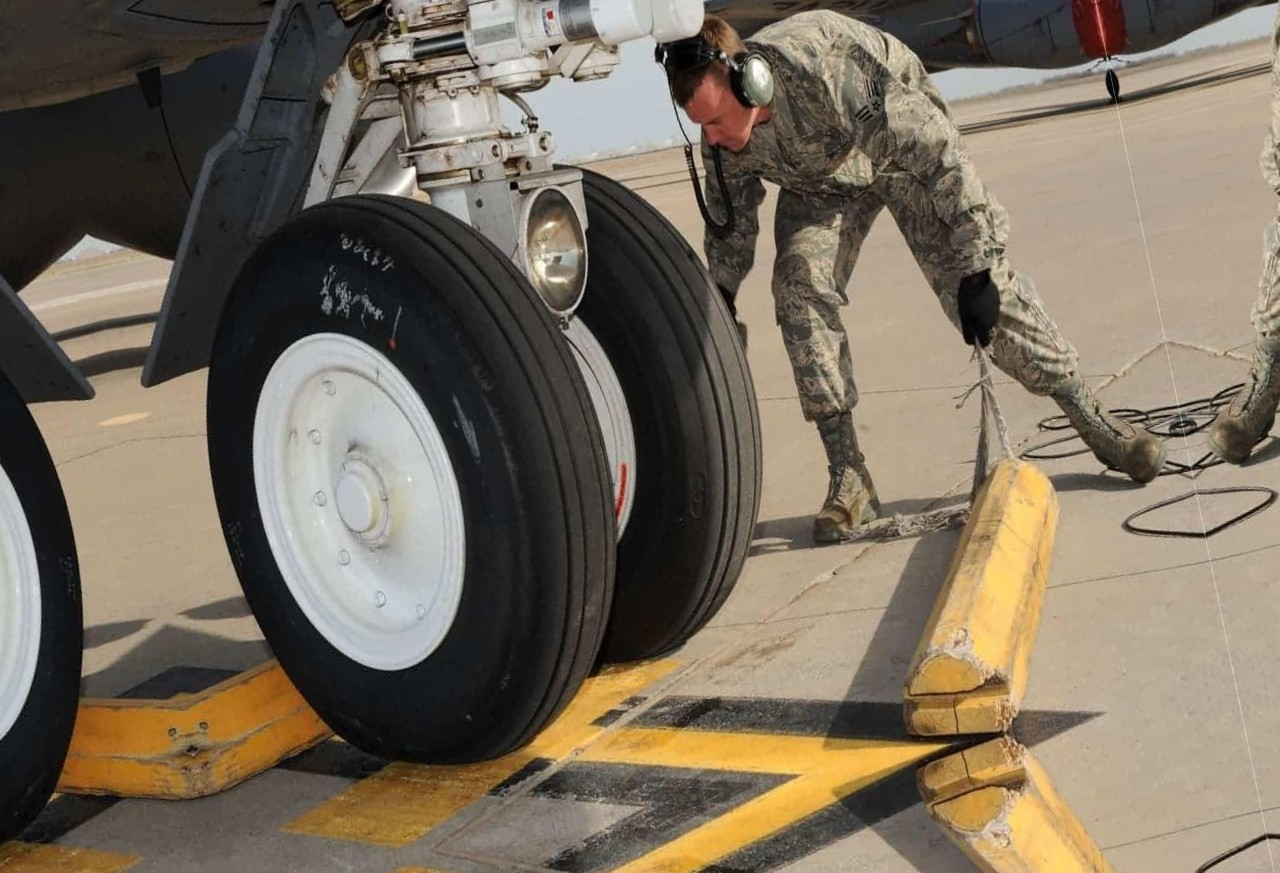chock: (854, 443, 1103, 754), (909, 714, 1159, 873)
wheel: (168, 155, 662, 794), (484, 133, 801, 672)
